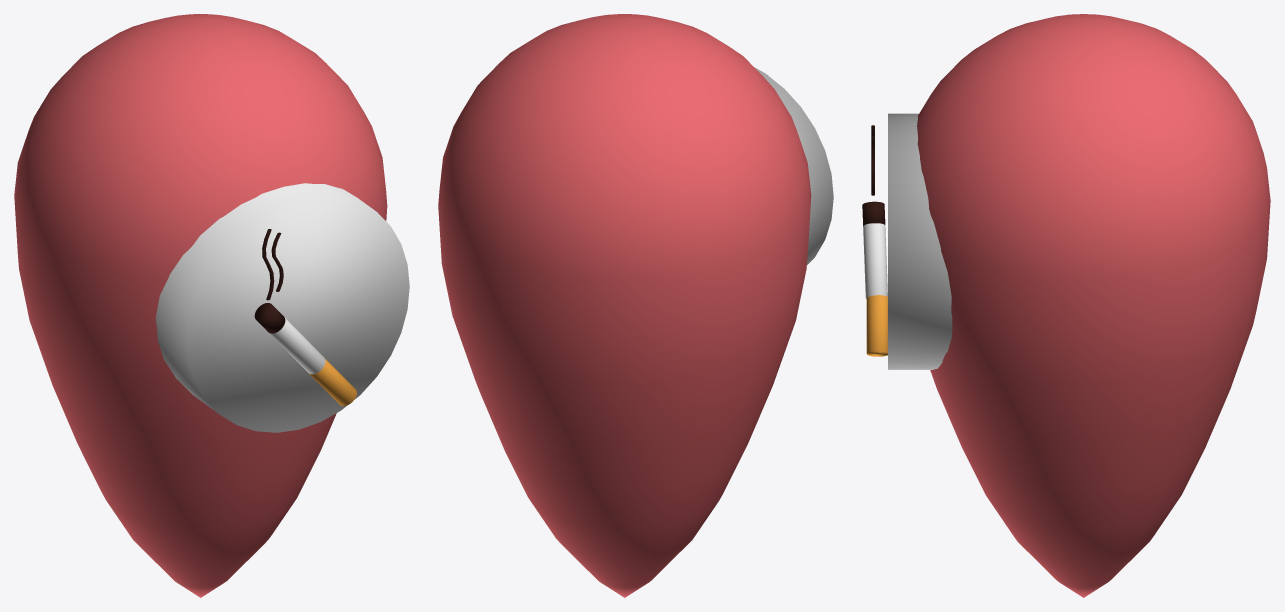
File: rookzone.glb
3 views of the same model, side by side, from view 1: azimuth 30°, elevation 25°; view 2: azimuth 150°, elevation 25°; view 3: azimuth 270°, elevation 25° (orthographic).
Visible parts, largest first — view 1: pin, Cylinder.001, Cylinder.006, Cylinder.007, Cylinder.005; view 2: pin, Cylinder.001; view 3: pin, Cylinder.001, Cylinder.006, Cylinder.007.
Boxes of the visible parts, box(x1,y1,x2,y2) form: pin: box(14, 14, 387, 597); Cylinder.001: box(155, 183, 409, 432); Cylinder.006: box(268, 317, 325, 374); Cylinder.007: box(307, 359, 356, 406); Cylinder.005: box(254, 303, 285, 333); pin: box(438, 14, 811, 597); Cylinder.001: box(754, 67, 833, 264); pin: box(917, 14, 1270, 597); Cylinder.001: box(888, 113, 952, 369); Cylinder.006: box(863, 223, 887, 299); Cylinder.007: box(866, 295, 887, 356).
Bounding box in the file's own units: 0.2435 × 0.4072 × 0.2659.
